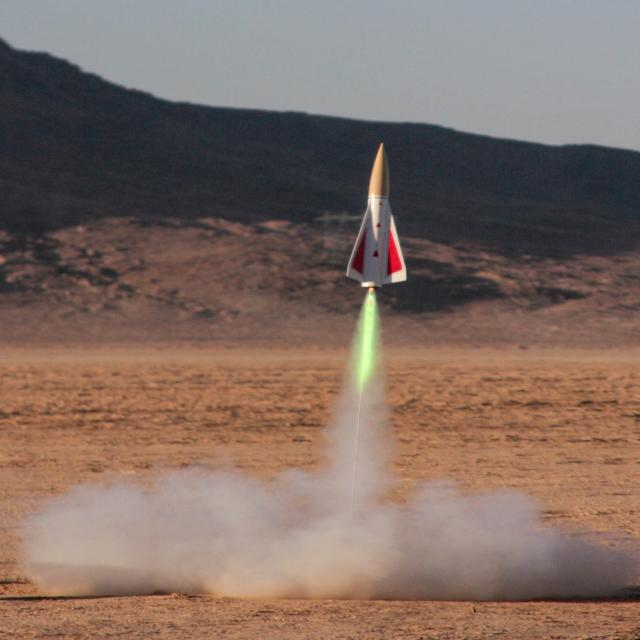Rocket: (344, 141, 410, 289)
